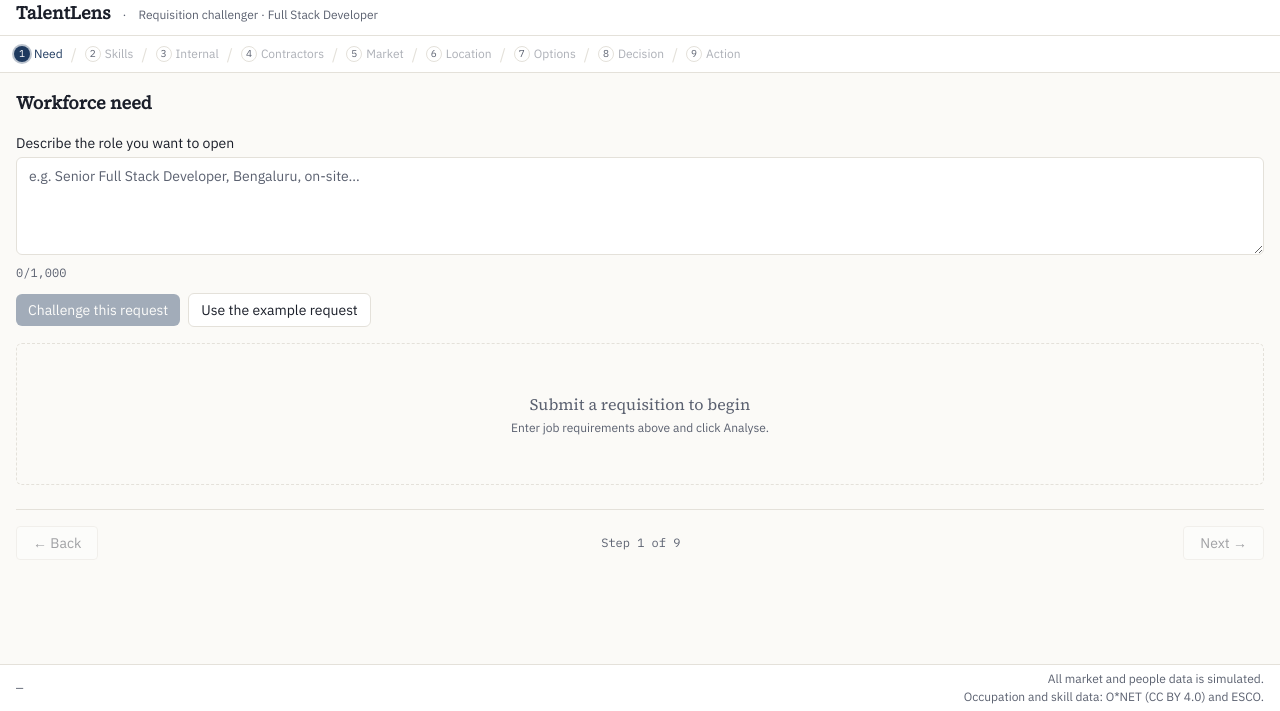
it: Sync: Déjà Req numbers from fixture › insight text matches fixture (after expanding)
Click the button "Use the example request" at (280, 310), box [188,293,371,327]
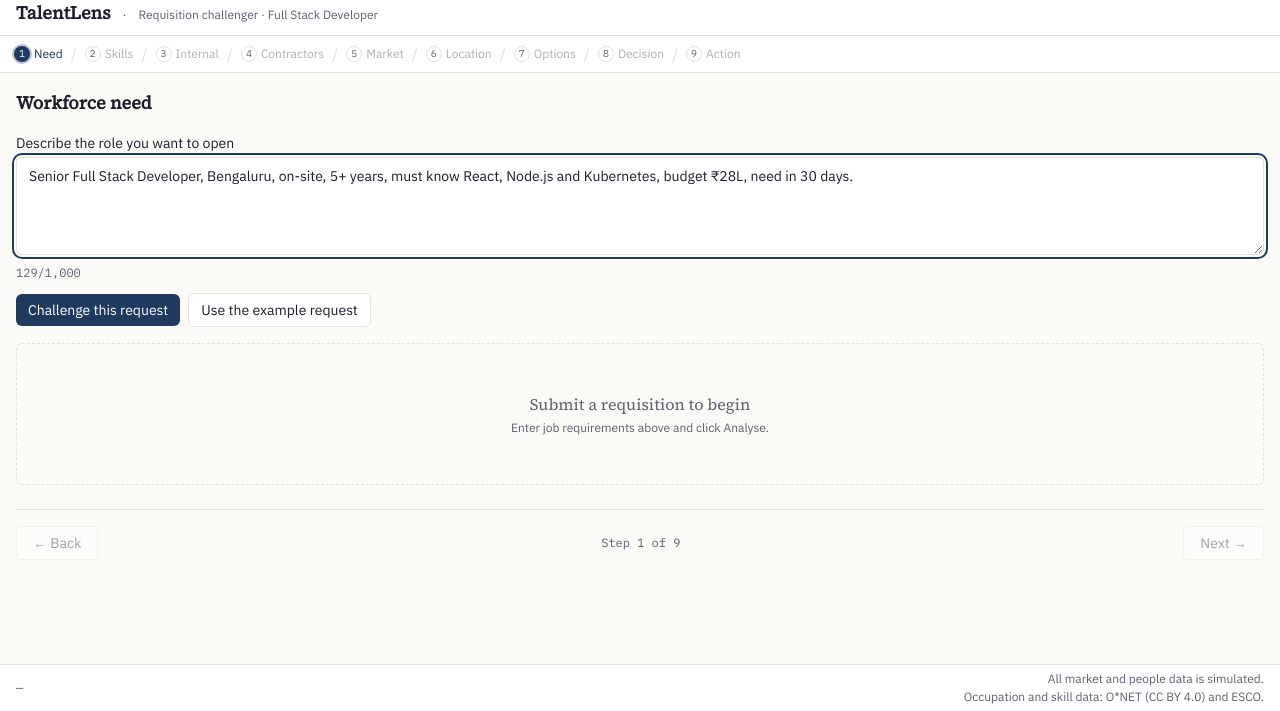
Click the button "Challenge this request" at (98, 310), box [16,294,180,326]
(page scrolled)
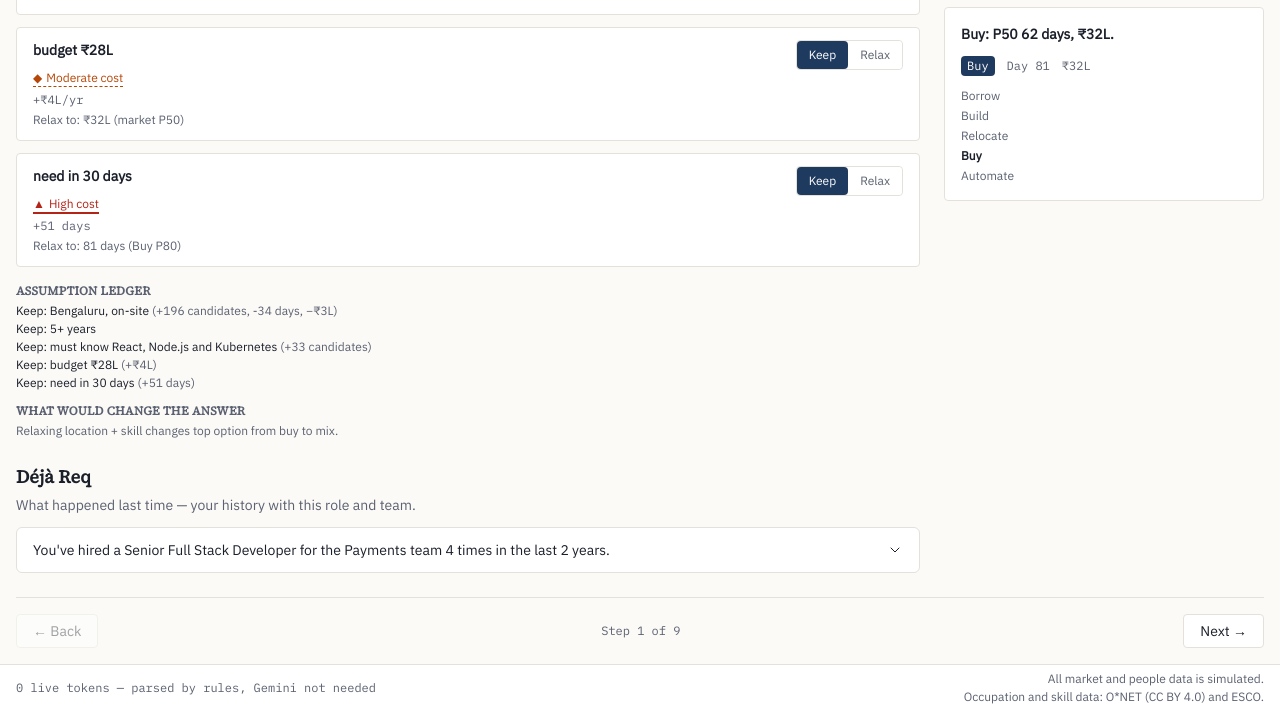
Click the button "You've hired a Senior Full Stack Developer for the Payments team 4 times in the last 2 years." at (468, 550), box [16,527,920,573]
(page scrolled)
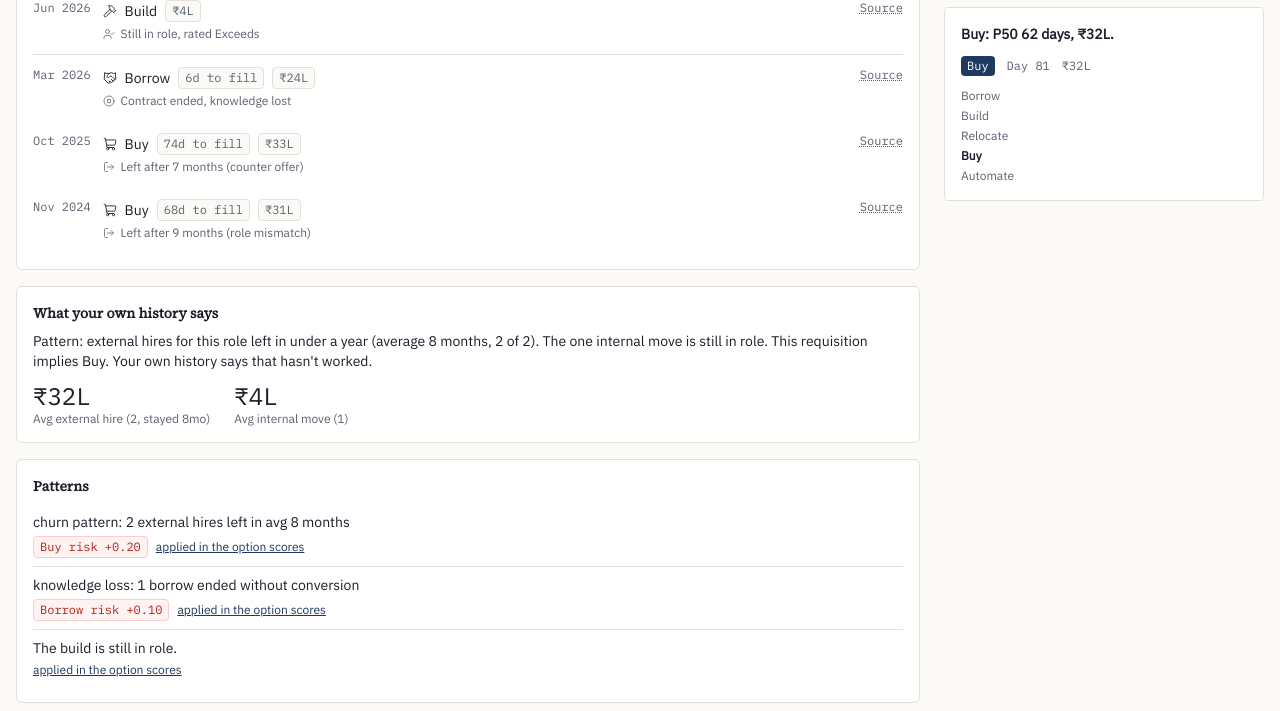
Now the text "Pattern: external hires for this role left in under a year (average 8 months, 2 of 2). The one internal move is still in" is shown, box [33,332,868,370]
